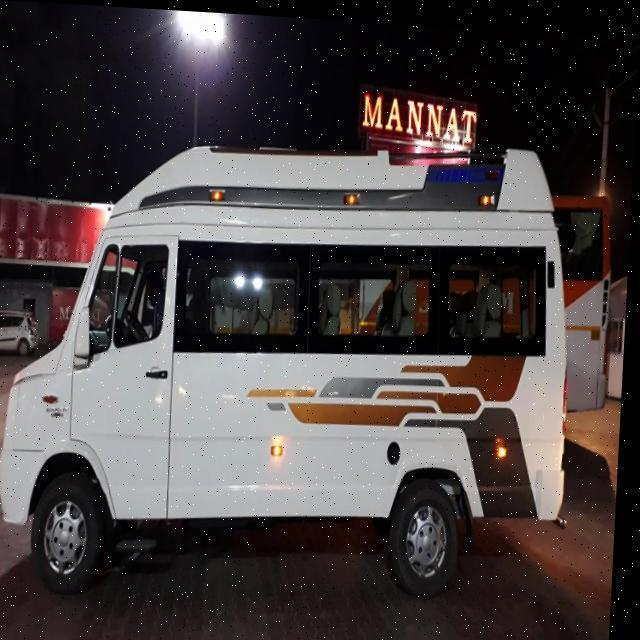Ambulance: (0, 77, 591, 624), (0, 339, 623, 640), (0, 190, 119, 356), (543, 182, 620, 408), (356, 78, 481, 150), (457, 253, 510, 338), (0, 305, 46, 362)
